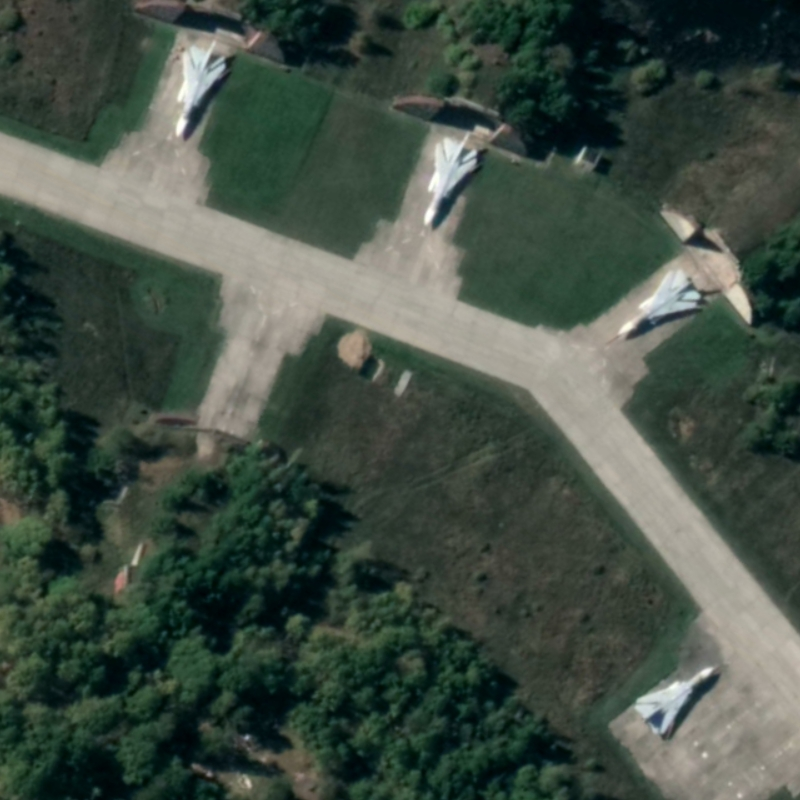A20: (616, 268, 703, 338), (632, 665, 716, 736), (173, 43, 228, 140), (422, 135, 479, 228)
